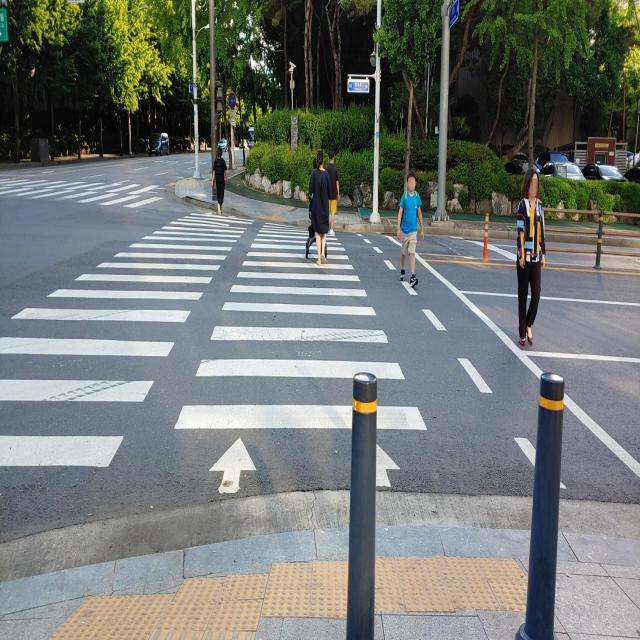횡단보도: (0, 200, 429, 500), (0, 175, 167, 211)
